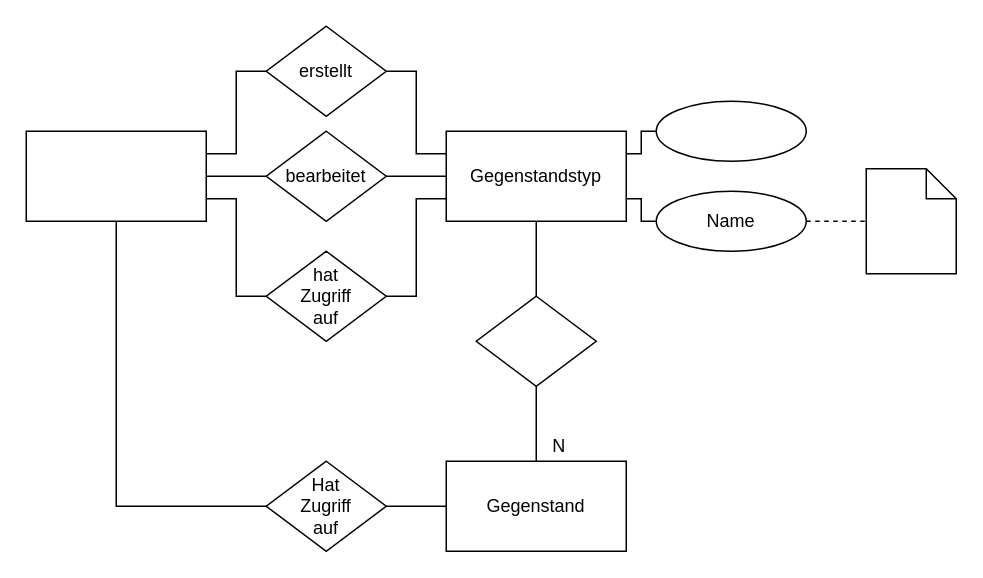
Image size: 983x578. Some labels were removed from this diagram. The shapes that lost their labels are listed below. From the top down, each one's box as (x1, y1, x2, y2) in pixels, then its label:
(655, 100, 806, 161): Beschreibung
(25, 130, 206, 221): Nutzer
(865, 167, 956, 274): Darf nicht leer sein
(475, 295, 596, 386): besitzt Typ
